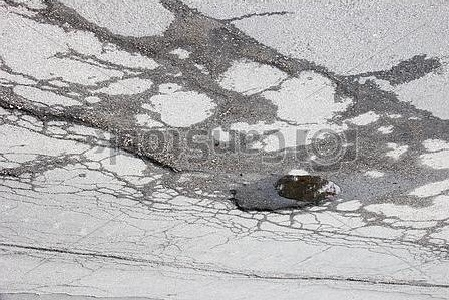pothole: (228, 172, 345, 217), (117, 144, 185, 175)
